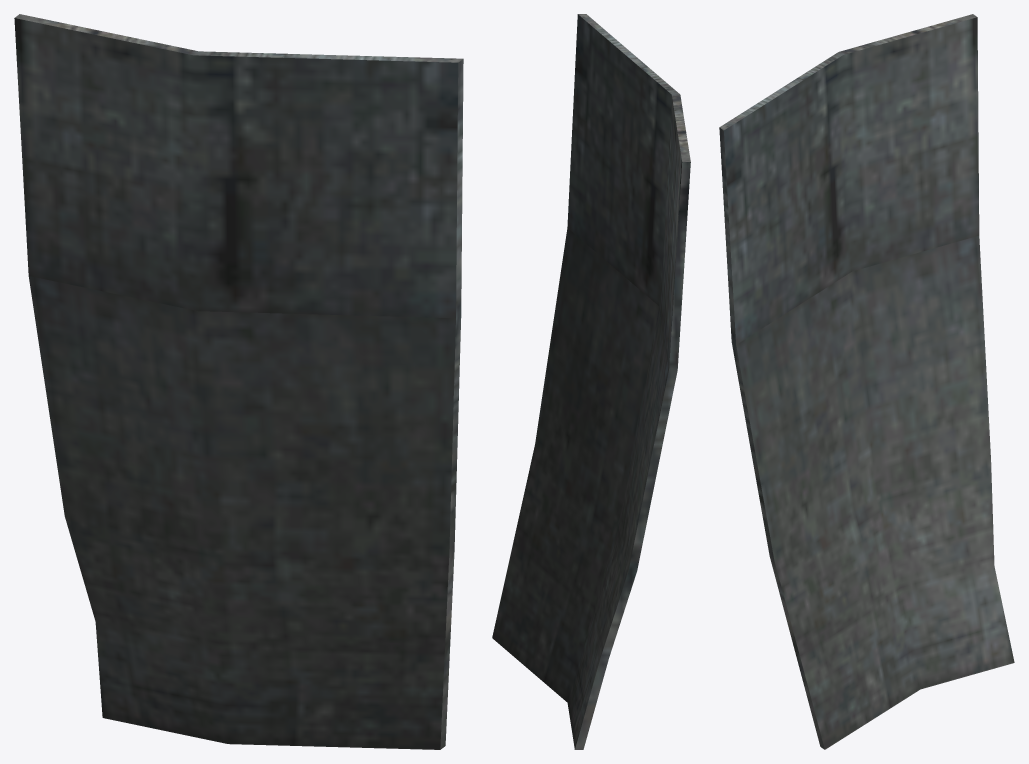
The model's file is flower_barrel_p4.glb.
3 views of the same model, side by side, from view 1: azimuth 30°, elevation 25°; view 2: azimuth 150°, elevation 25°; view 3: azimuth 270°, elevation 25° (orthographic). The views are drawn at different scales.
Parts seen in each view (by area): view 1: flower_barrel_p4; view 2: flower_barrel_p4; view 3: flower_barrel_p4.
Part boxes in pixels (x1=…): flower_barrel_p4: x1=14, y1=14, x2=463, y2=749; flower_barrel_p4: x1=492, y1=14, x2=690, y2=749; flower_barrel_p4: x1=719, y1=14, x2=1014, y2=749.
Size of the model in its own units: 0.2097 by 0.439 by 0.1952.
Materials: 1 (1 with a texture image).
